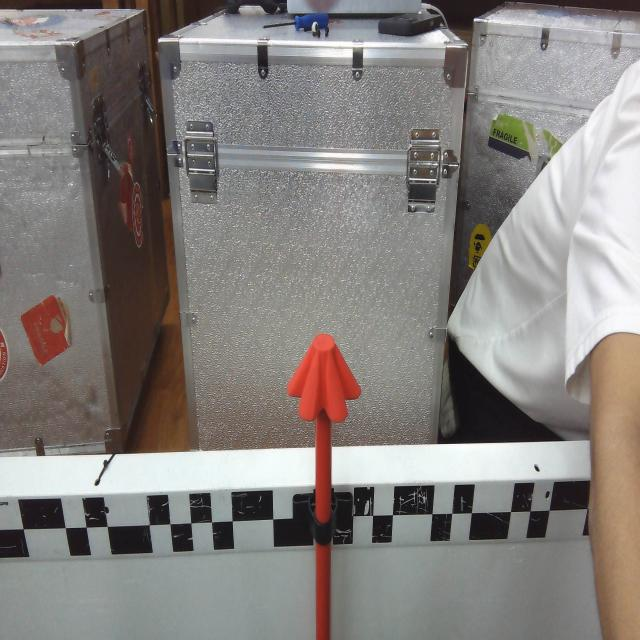zred-Stake-Head: (287, 333, 362, 422)
